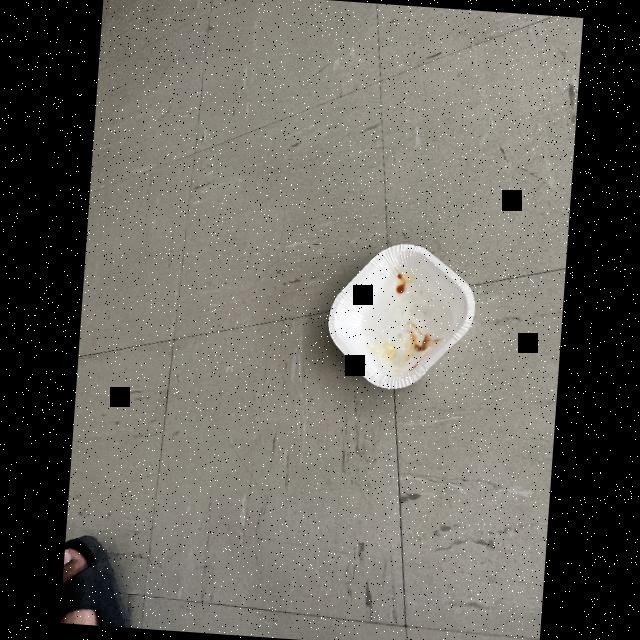cardboard_bowl: (308, 235, 481, 395)
